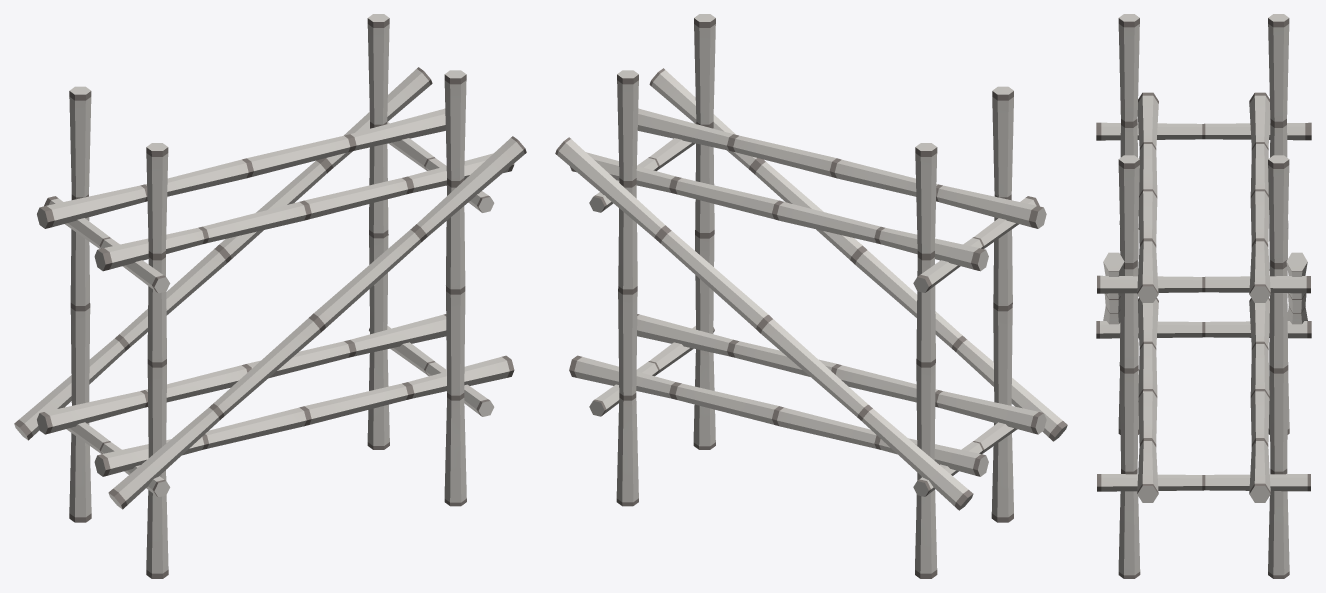
Rendered from Bamboo_forest_2.fbx.
3 renders of one model, left to right at view 1: azimuth 30°, elevation 25°; view 2: azimuth 150°, elevation 25°; view 3: azimuth 270°, elevation 25°, orthographic. The views are drawn at different scales.
Parts seen in each view (by area): view 1: Bamboo_forest_2; view 2: Bamboo_forest_2; view 3: Bamboo_forest_2.
Part boxes in pixels (left/top/right/bottom): Bamboo_forest_2: left=14, top=14, right=526, bottom=578; Bamboo_forest_2: left=555, top=14, right=1067, bottom=578; Bamboo_forest_2: left=1096, top=14, right=1311, bottom=578.
Size of the model in its own units: 4.06 by 3.99 by 1.87.
